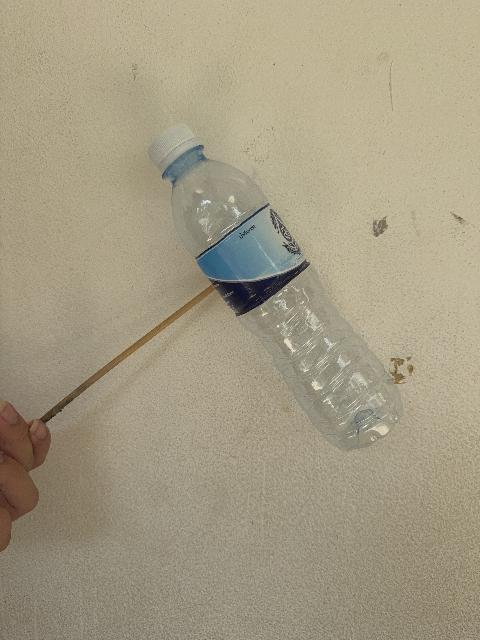bottle: (149, 125, 402, 450)
